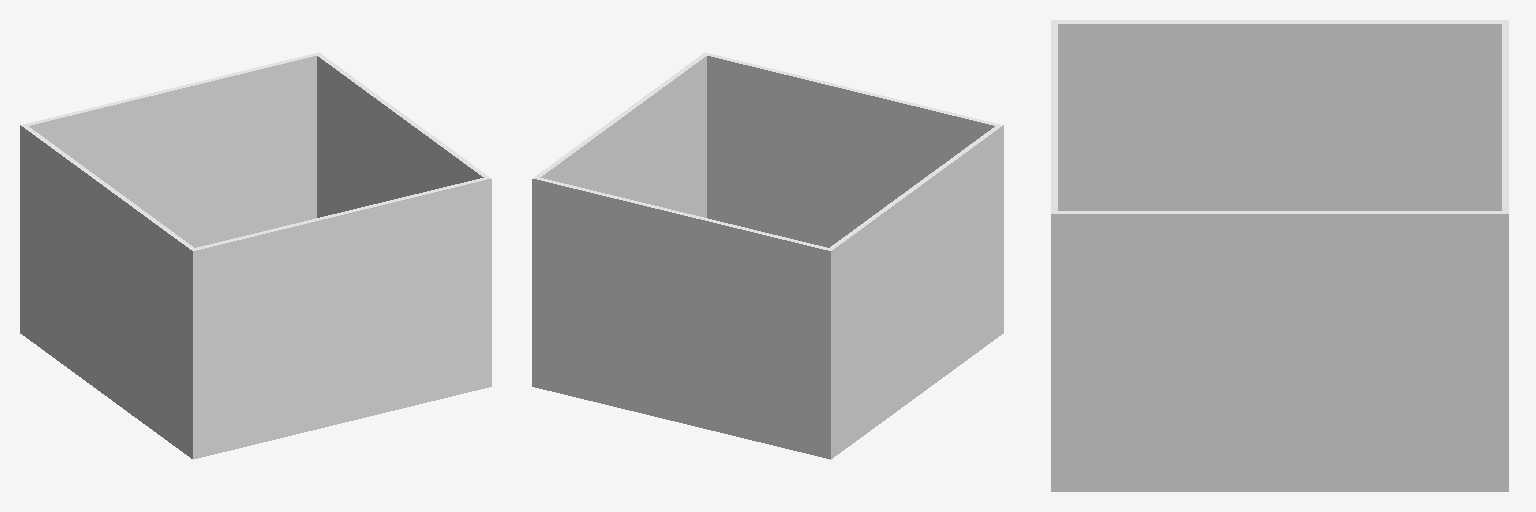
robot.urdf — glass_box:
<?xml version="1.0" encoding="utf-8"?>
<!-- This URDF was automatically created by SolidWorks to URDF Exporter! Originally created by [author] ([email redacted]) 
     Commit Version: 1.5.1-0-g916b5db  Build Version: 1.5.7152.31018
     For more information, please see http://wiki.ros.org/sw_urdf_exporter -->
<robot
  name="glass_box">
  <link
    name="glass_box">
    <inertial>
      <origin
        xyz="0.0 0.0 0.0"
        rpy="0 0 0" />
      <mass
        value="0.0" />
      <inertia
        ixx="0.066228"
        ixy="2.0535E-17"
        ixz="-4.041E-18"
        iyy="0.098633"
        iyz="8.63031555219293E-19"
        izz="0.066228" />
    </inertial>
    <visual>
      <origin
        xyz="0 0 0"
        rpy="0 0 0" />
      <geometry>
        <mesh
          filename="package://glass_box/meshes/glass_box.dae" />
      </geometry>
      <material
        name="">
        <color
          rgba="1 1 1 0.15" />
        <texture
          filename="package://glass_box/textures/" />
      </material>
    </visual>
    <collision>
      <origin
        xyz="0 0 0"
        rpy="0 0 0" />
      <geometry>
        <mesh
          filename="package://glass_box/meshes/glass_box.obj" />
      </geometry>
    </collision>
  </link>
</robot>

--- Facts derived from the render (not from the file) ---
3 views of the same robot in one strip: view 1: azimuth 30°, elevation 25°; view 2: azimuth 150°, elevation 25°; view 3: azimuth 270°, elevation 25° (orthographic).
Robot: glass_box — 1 links, 0 joints (none); root link glass_box; default pose: all joints at 0.
Links seen in each view (by area): view 1: glass_box; view 2: glass_box; view 3: glass_box.
Link boxes in pixels (box(x1,y1,x2,y2)): glass_box: box(20, 52, 491, 459); glass_box: box(532, 52, 1003, 459); glass_box: box(1051, 20, 1508, 491).
Bounding box of the posed robot: 0.3 × 0.3 × 0.2 m (x, y, z).
1 mesh visuals loaded from 1 distinct referenced files (1 Collada DAE).